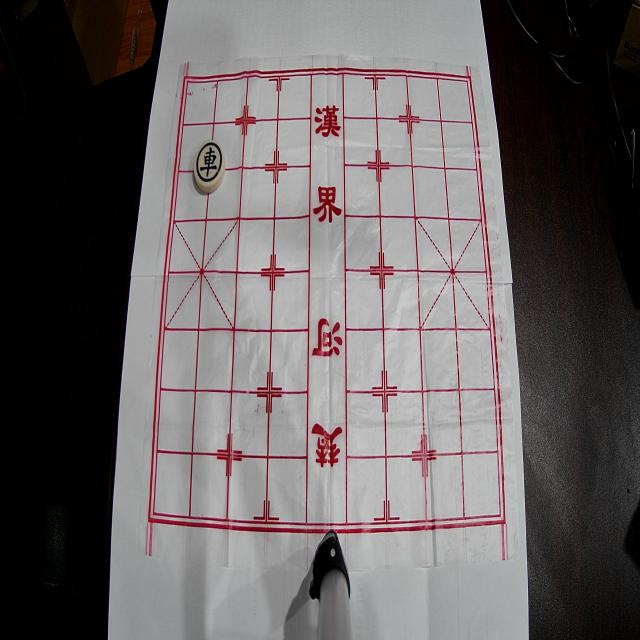black-chariot: (194, 140, 225, 193)
